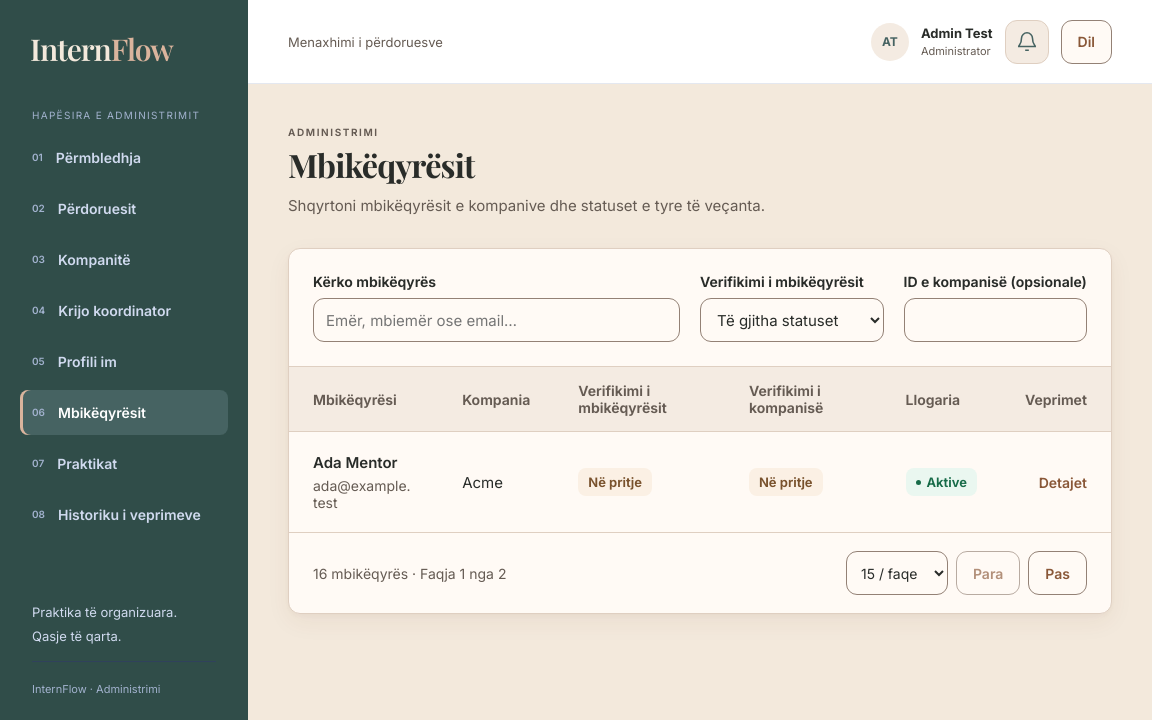
Test case: Admin supervisors › loads API data, sends filters and pagination, and opens supervisor details
The width and height of the screenshot is (1152, 720).
Check: the text "ada@example.test" is shown, box top-left (313, 477), bottom-right (414, 511)
Step 1. Click the button "Pas" → (1058, 573), box top-left (1028, 551), bottom-right (1087, 595)
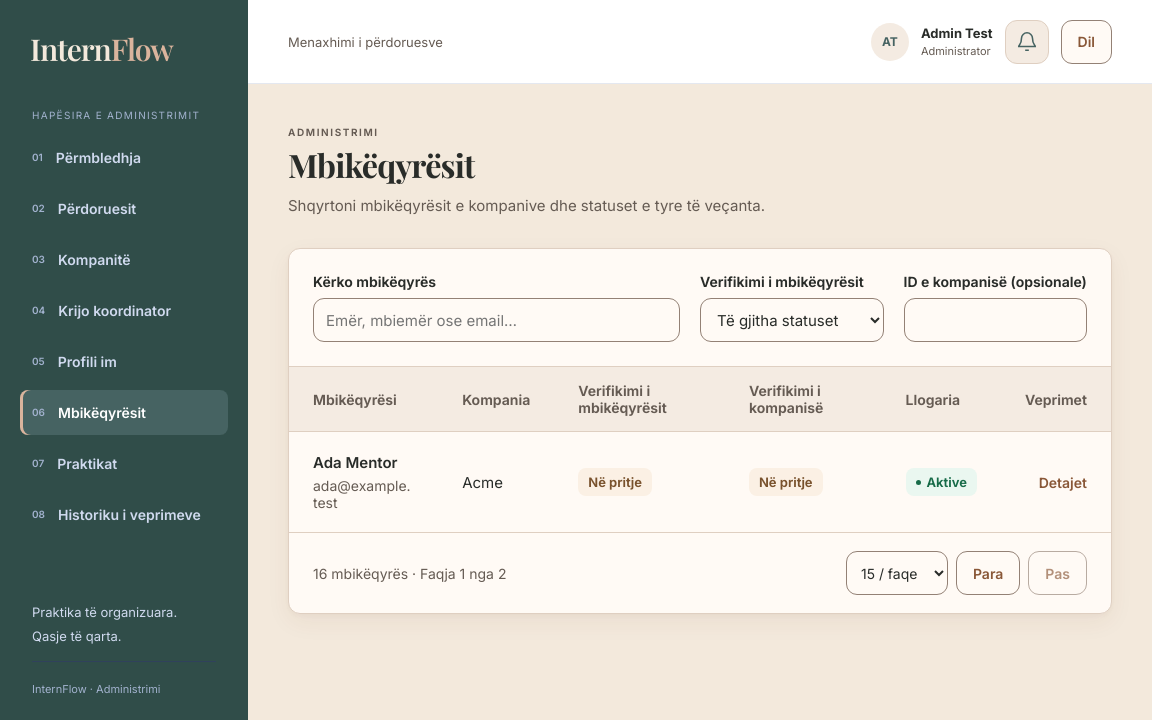
Step 2. Type "Ada" into the field labelled "Kërko mbikëqyrës" → (496, 320), box top-left (313, 298), bottom-right (680, 342)
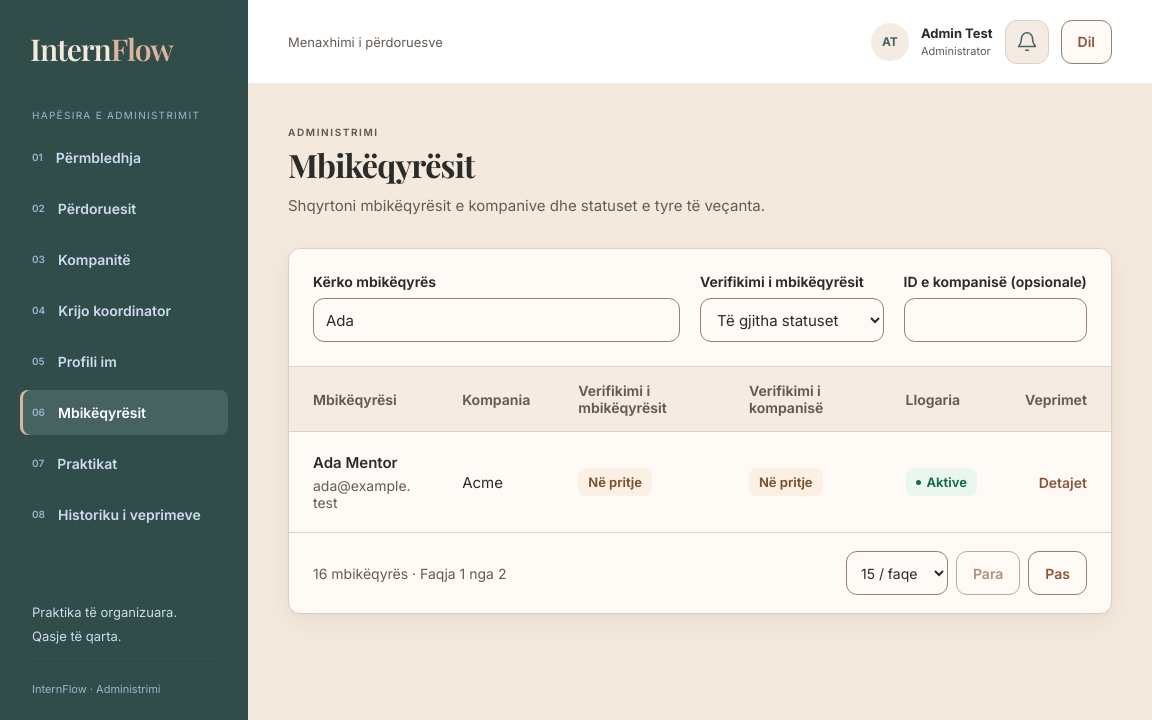
Step 3. Select "Në pritje" in the dropdown labelled "Verifikimi i mbikëqyrësit" → (792, 320), box top-left (700, 298), bottom-right (884, 342)
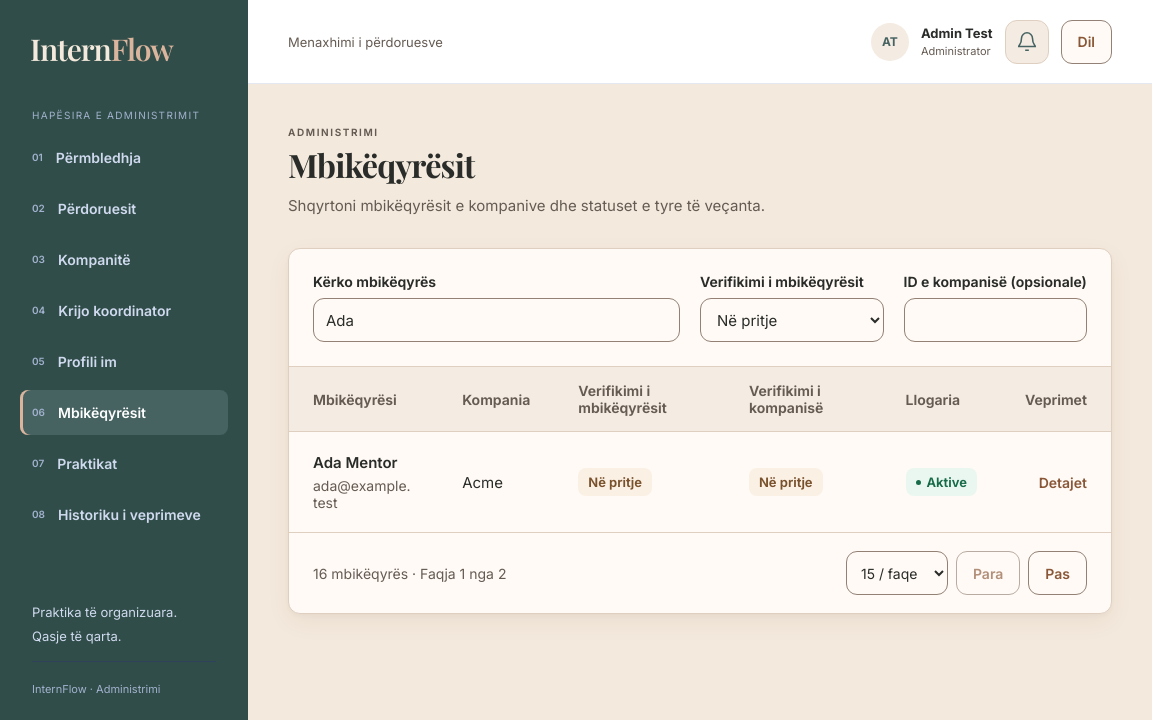
Step 4. Type "4" into the number field labelled "ID e kompanisë (opsionale)" → (995, 320), box top-left (904, 298), bottom-right (1087, 342)
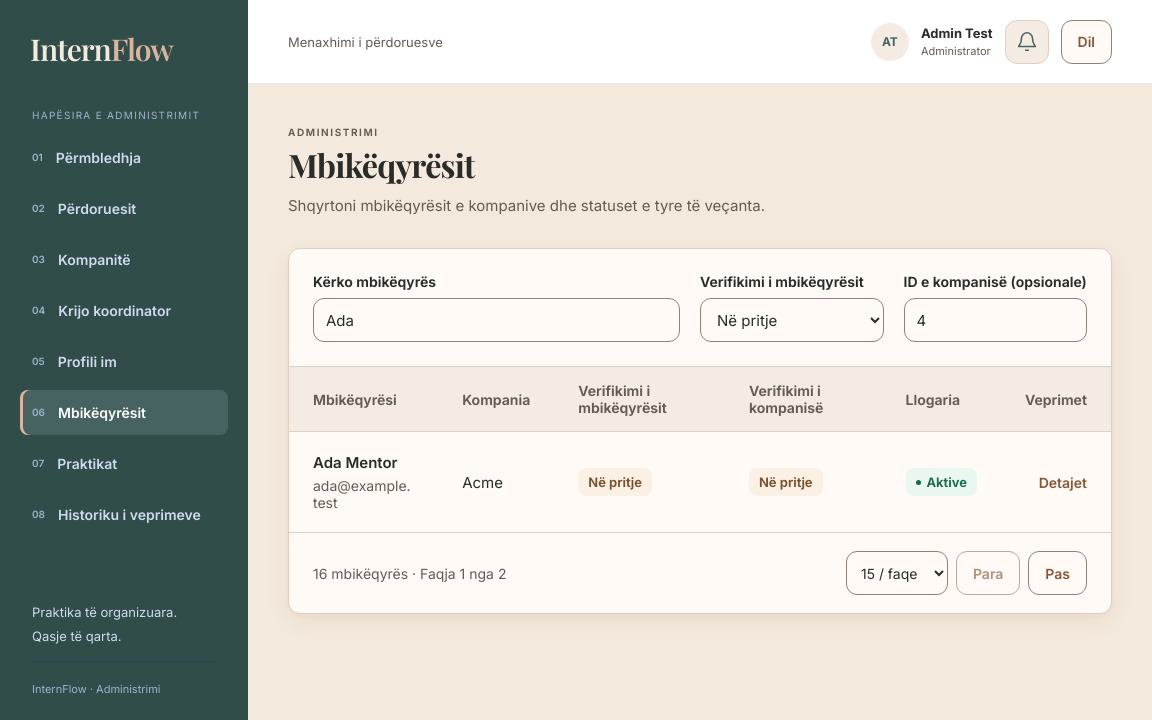
Step 5. Click the link "Detajet" → (1063, 482), box top-left (1039, 474), bottom-right (1087, 491)
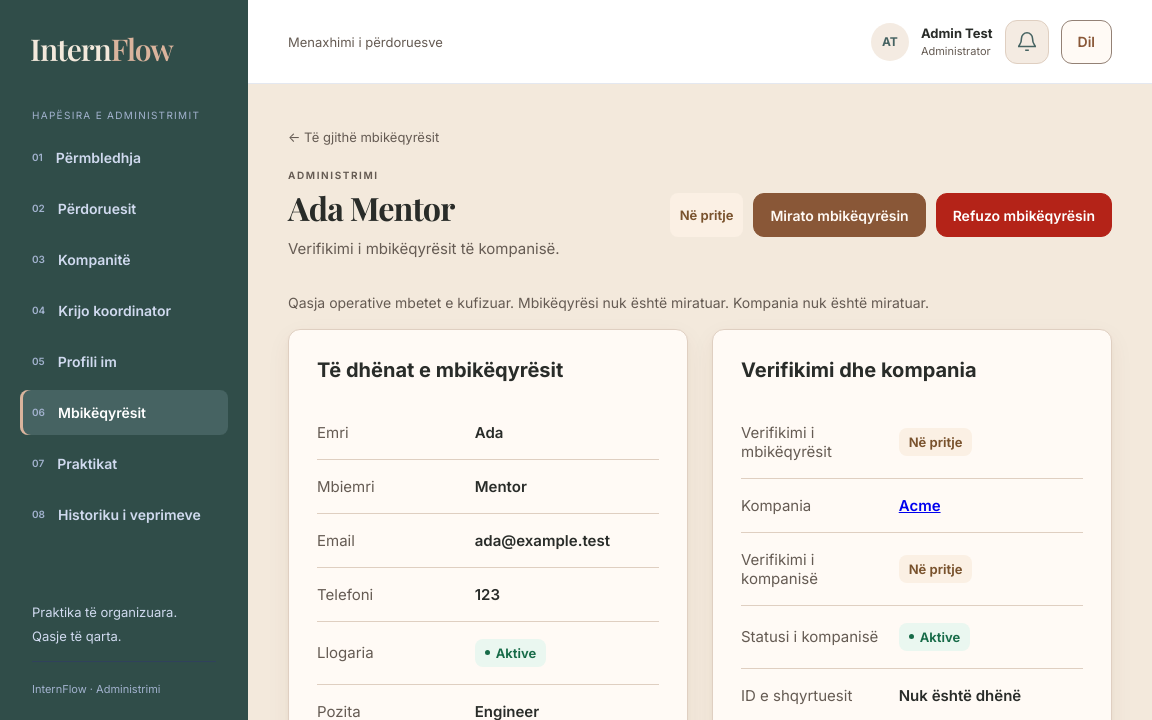
Check: the text "Engineer" is shown, box top-left (475, 702), bottom-right (539, 719)
